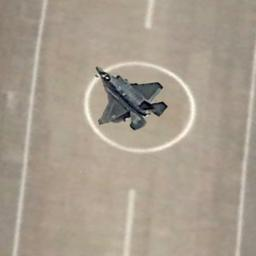Airplane: (93, 64, 168, 130)
